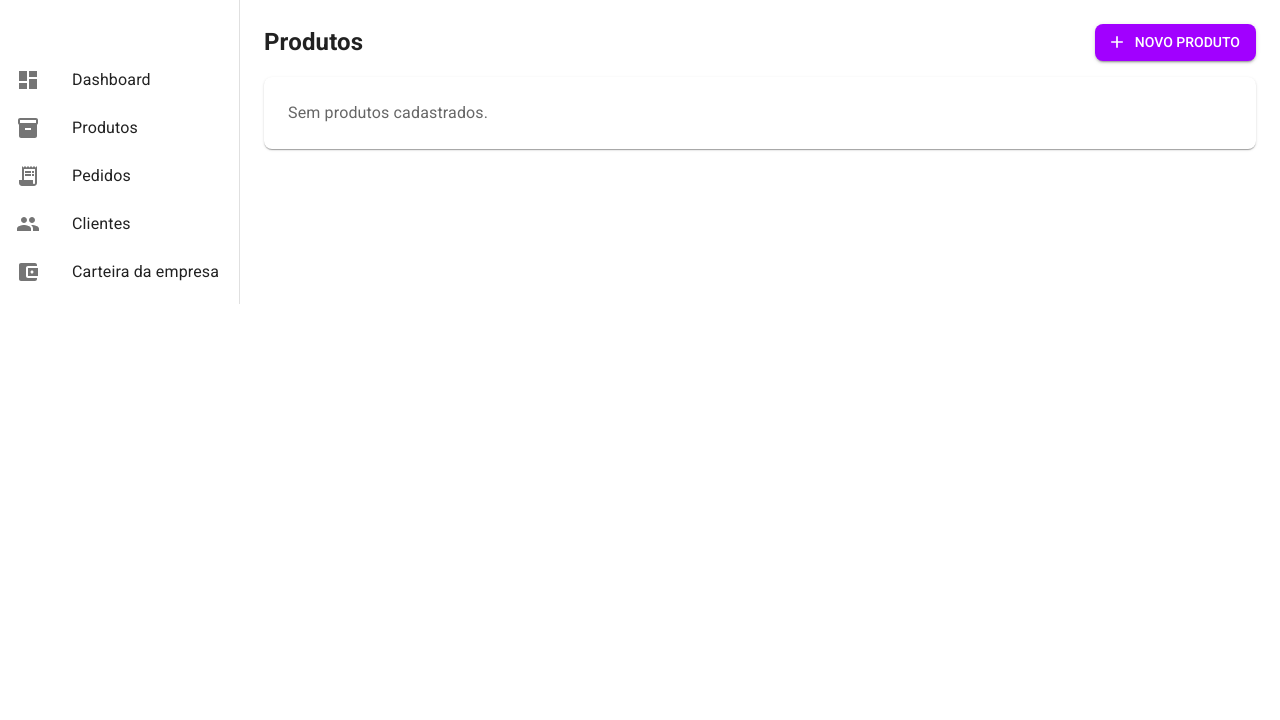
Test: AdminProducts › mostra erro de preço inválido após perder o foco
The width and height of the screenshot is (1280, 720).
Expected: the text "Sem produtos cadastrados." is shown, [288,102,488,122]
Click the button "Novo produto" at (1175, 42), box [1095,24,1256,60]
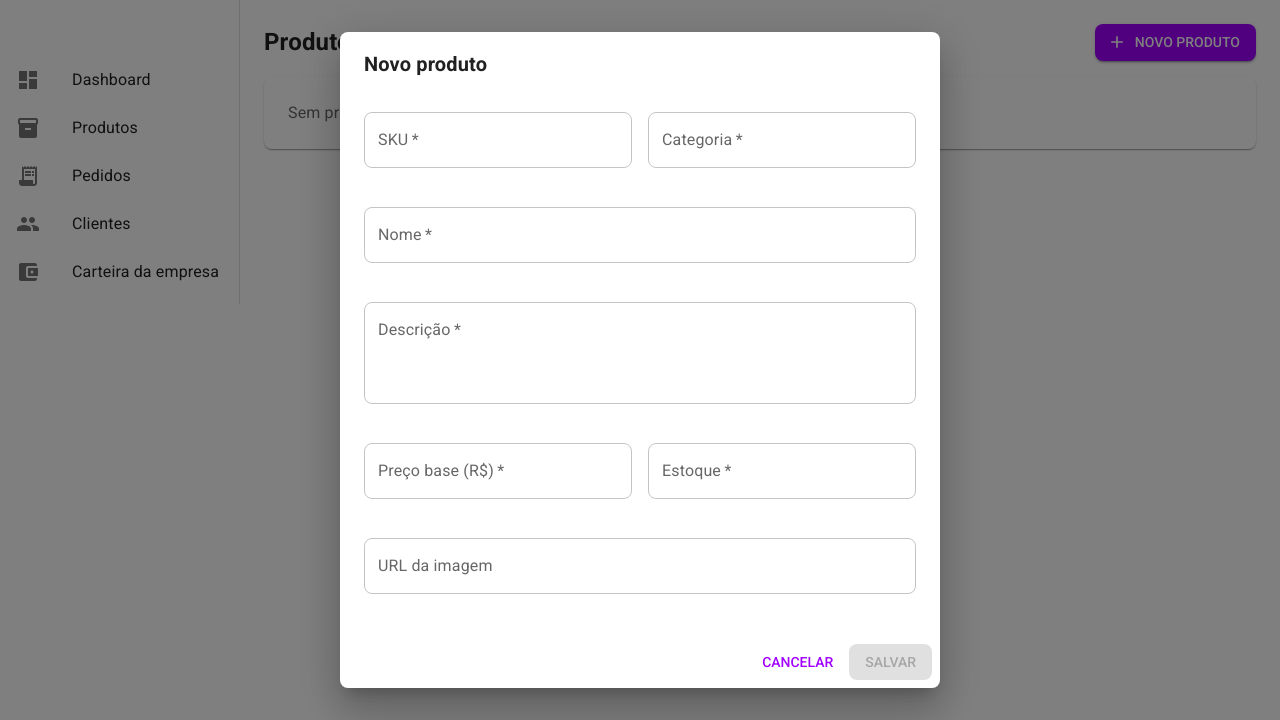
Type "0" into the field labelled "Preço base (R$) *" at (498, 471), box [364,443,632,499]
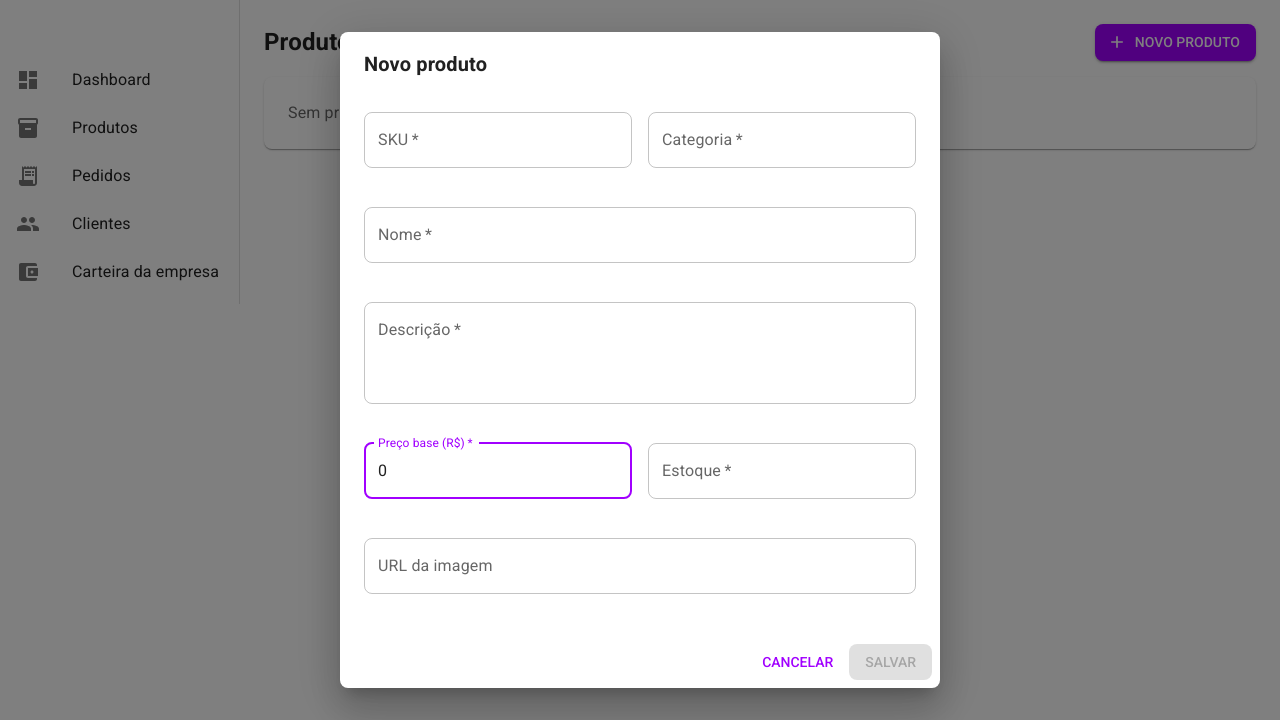
Press Tab
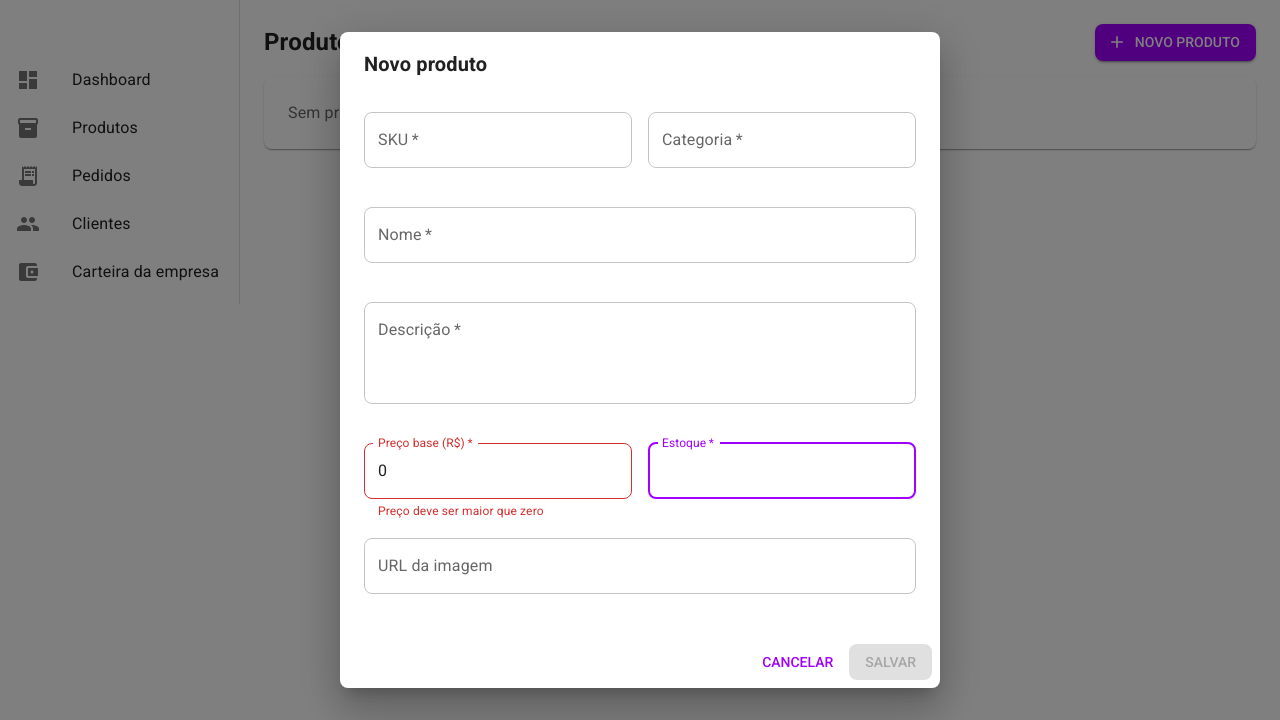
Expected: the text "Preço deve ser maior que zero" is shown, [378,504,544,518]
